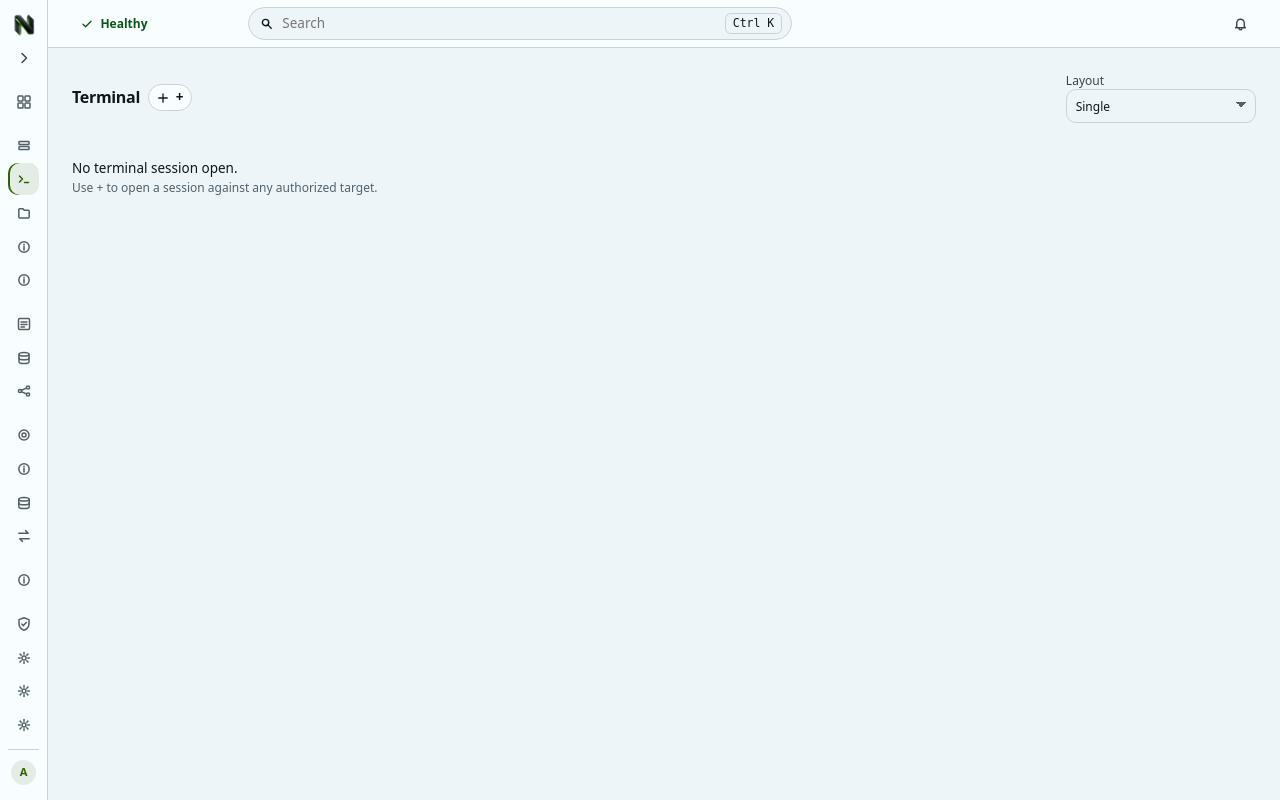
it: Terminal workspace › opens independent host sessions against the same node
This screenshot has width=1280, height=800.
Check: the heading "Terminal" is shown, box [72,88,140,107]
Click the button named "new terminal": (170, 98) [148,84,192,111]
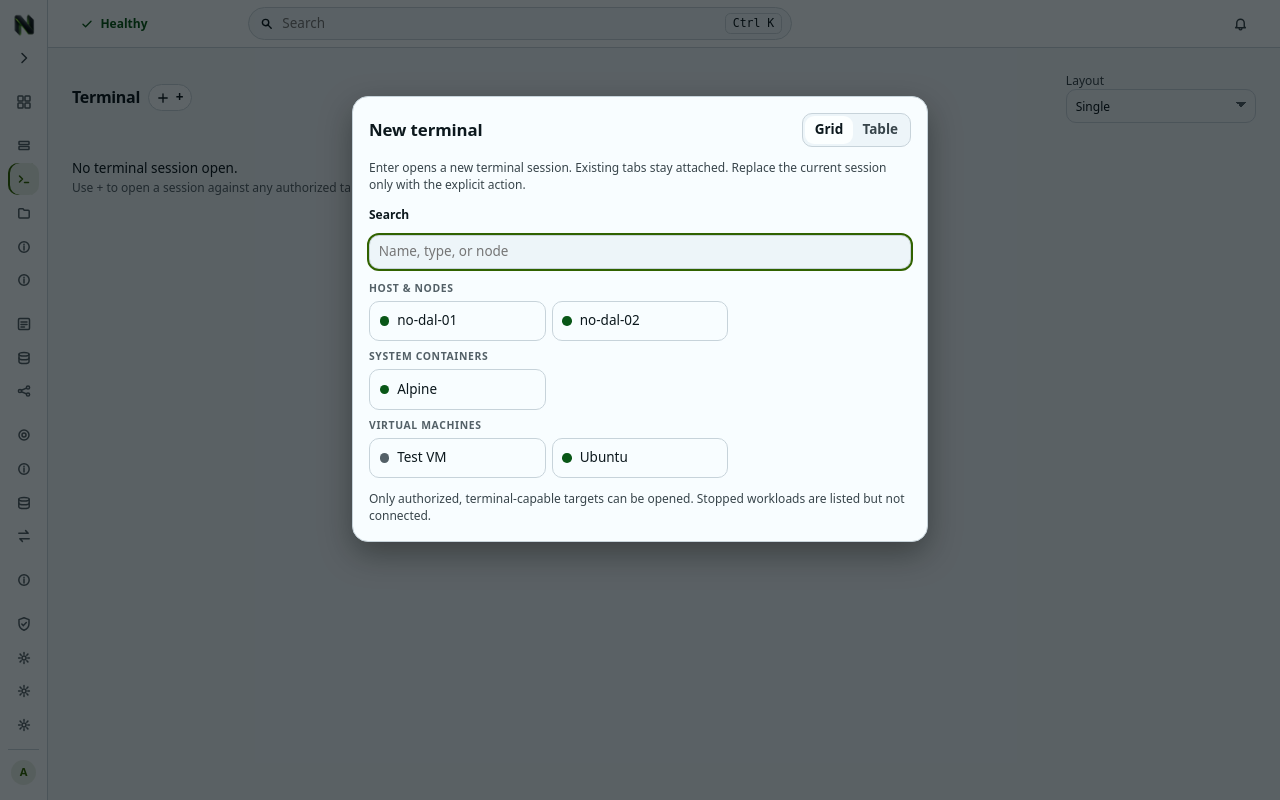
Check: the dialog "New terminal" is shown, box [352,96,928,542]
Check: the button "no-dal-01" is shown
Click the button "no-dal-01": (457, 321) [370,302,545,340]
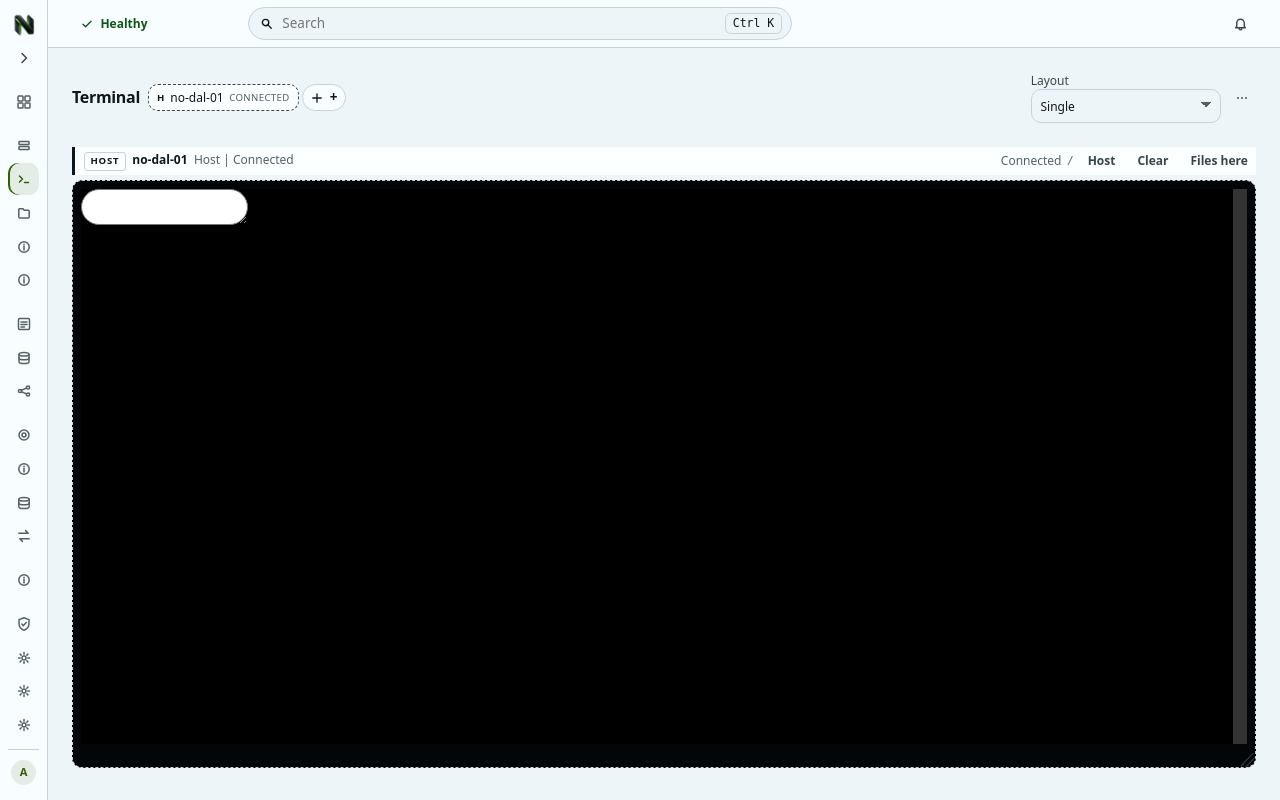
Check: the text with class "is-active" in the row of "Files here" reads "Connected", box [1001,152,1062,169]
Click the button named "new terminal": (324, 98) [302,84,346,111]
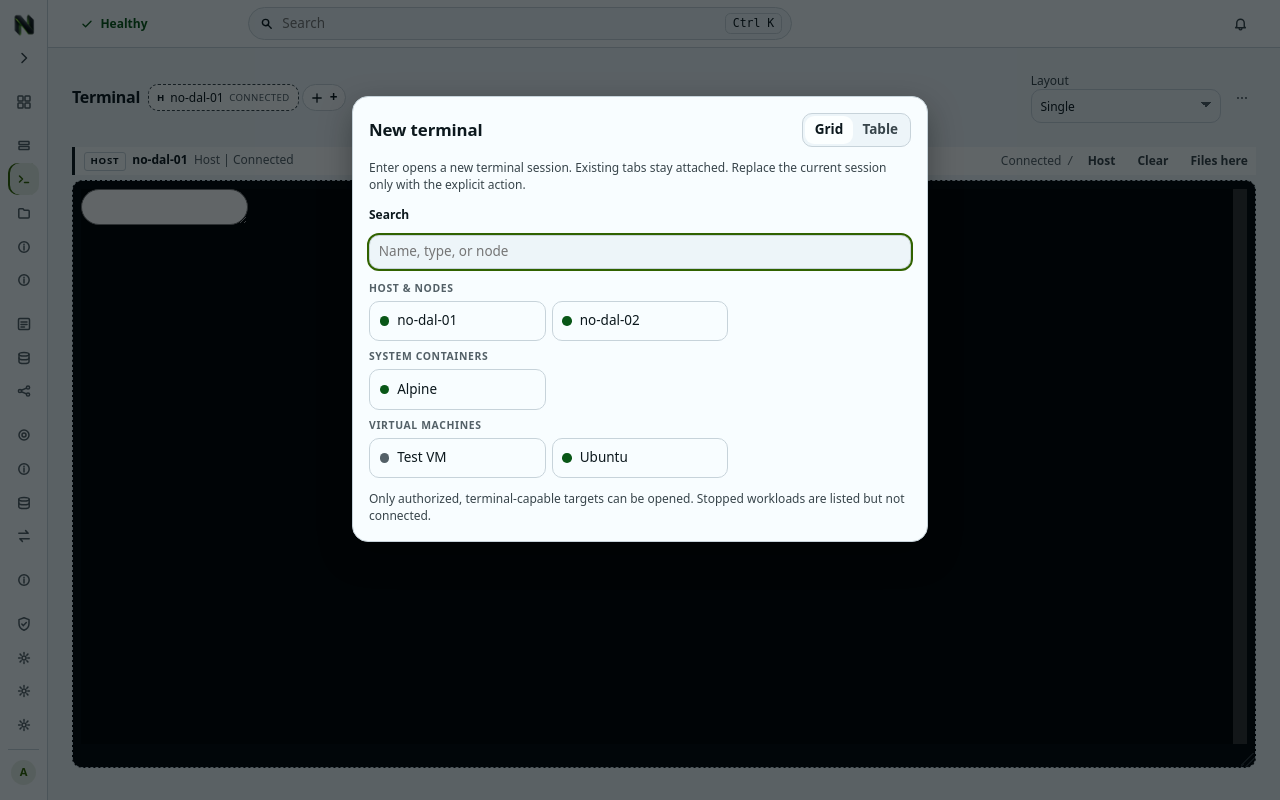
Check: the dialog "New terminal" is shown, box [352,96,928,542]
Check: the button "no-dal-01" is shown
Click the button "no-dal-01": (441, 321) [370,302,513,340]
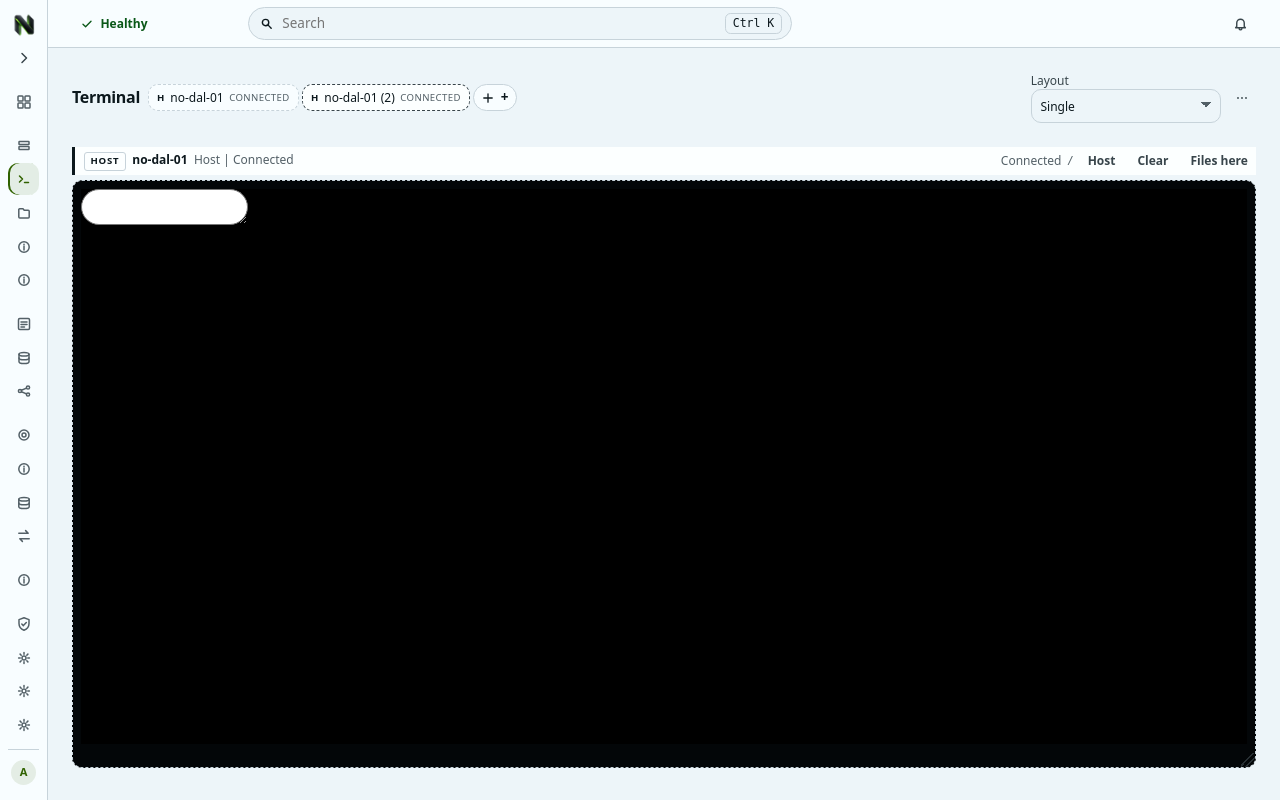
Check: the number of tabs is 2
Click the tab "H no-dal-01 Connected": (223, 98) [148,84,299,111]
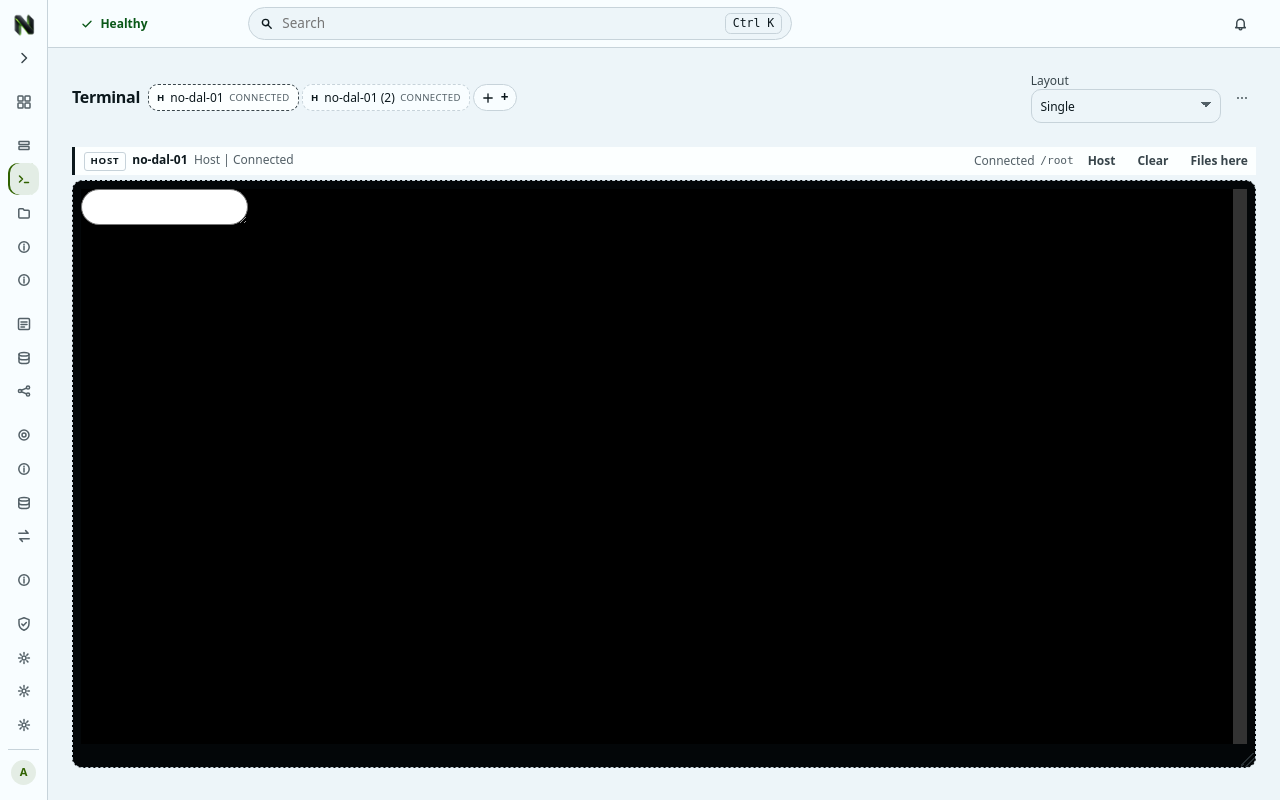
Check: the element with test id "term-identity" shows "/root", box [1040,154,1074,167]
Click the tab "H no-dal-01 (2) Connected": (386, 98) [302,84,470,111]
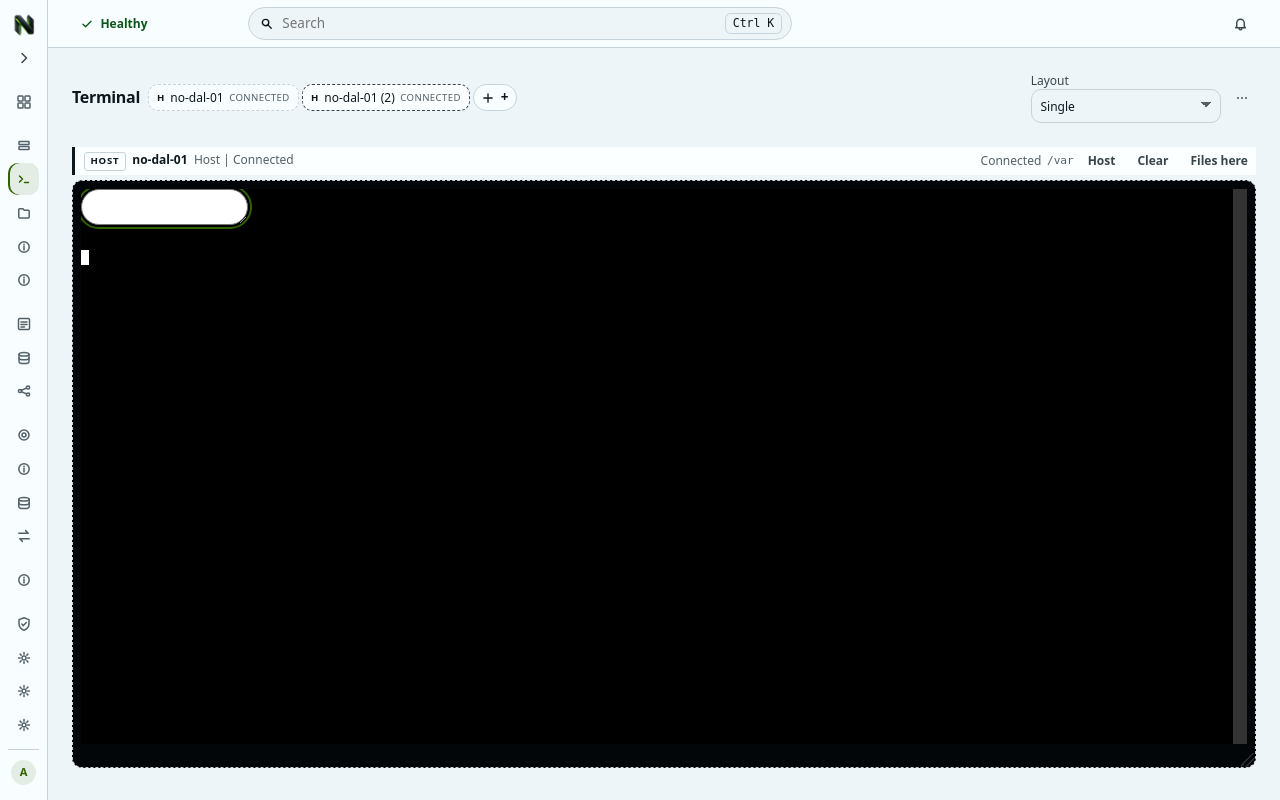
Check: the element with test id "term-identity" shows "/var", box [1047,154,1074,167]
